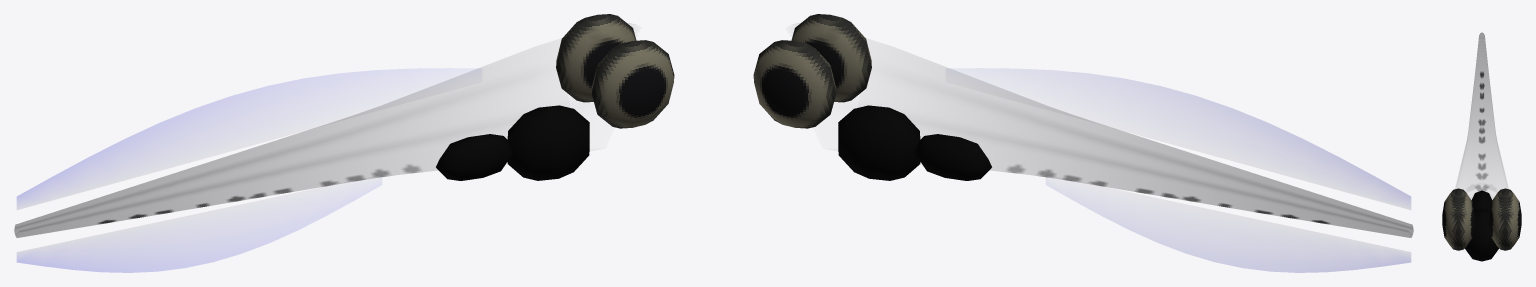
The model's file is brood_clown_larva.glb.
The picture shows the model from 3 angles, left to right: view 1: azimuth 30°, elevation 25°; view 2: azimuth 150°, elevation 25°; view 3: azimuth 270°, elevation 25°; orthographic projection. The views are drawn at different scales.
Visible parts, largest first — view 1: Fold, Eyes, Yolk; view 2: Fold, Eyes, Yolk; view 3: Eyes, Fold, Yolk.
Boxes of the visible parts, x1,y1,x2,y2 form: Fold: (14,68,509,272); Eyes: (556,14,674,128); Yolk: (436,105,589,180); Fold: (919,68,1413,272); Eyes: (753,14,871,128); Yolk: (838,105,991,180); Eyes: (1442,188,1521,250); Fold: (1457,32,1506,191); Yolk: (1465,190,1498,261).
Size of the model in its own units: 1.03 by 0.2343 by 0.1579.
4 materials, 2 textured.
